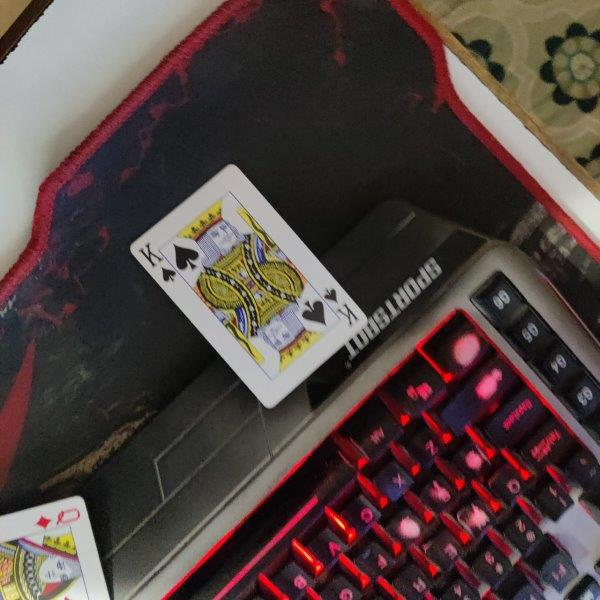King of Spades: (130, 163, 369, 411)
Queen of Diamonds: (1, 495, 112, 600)
